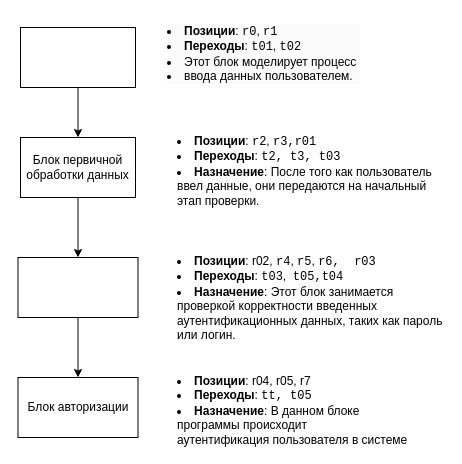
The diagram is 462 pixels wide and 464 high, and some of its shapes have lost their labels. Here are the shapes that lost their labels. From the top down, the centre of each, then its label:
At [78,57]: "Модуль ввода данных".
At [77,287]: "Блок проверки аутентификационных данных".
